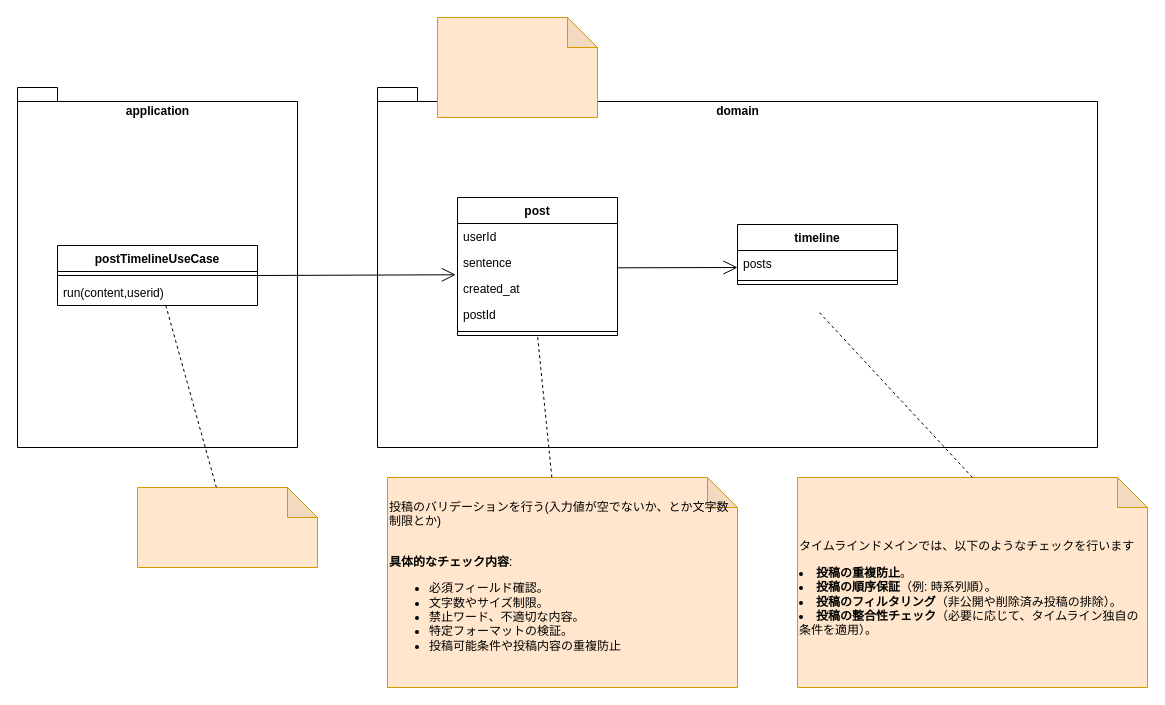
Some shapes in this 1165 by 705 pixel diagram are drawn without their labels. The shapes that lost their labels are listed below. From the top down, each one's centre as x and y in pixels, then its label:
At point (517, 67): "ユーザはdomainでは不要 理由：ユーザによって権限変えるとかではないので(無料会員と有料会員で投稿に制限をかけるとか)".
At point (227, 527): "rurの内部では、以下を実行 ・投稿を作成する ・タイムラインへ保存する".
